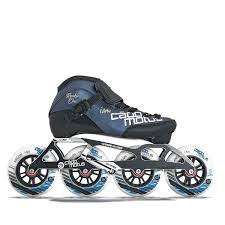roller_blade: (6, 73, 220, 198)
